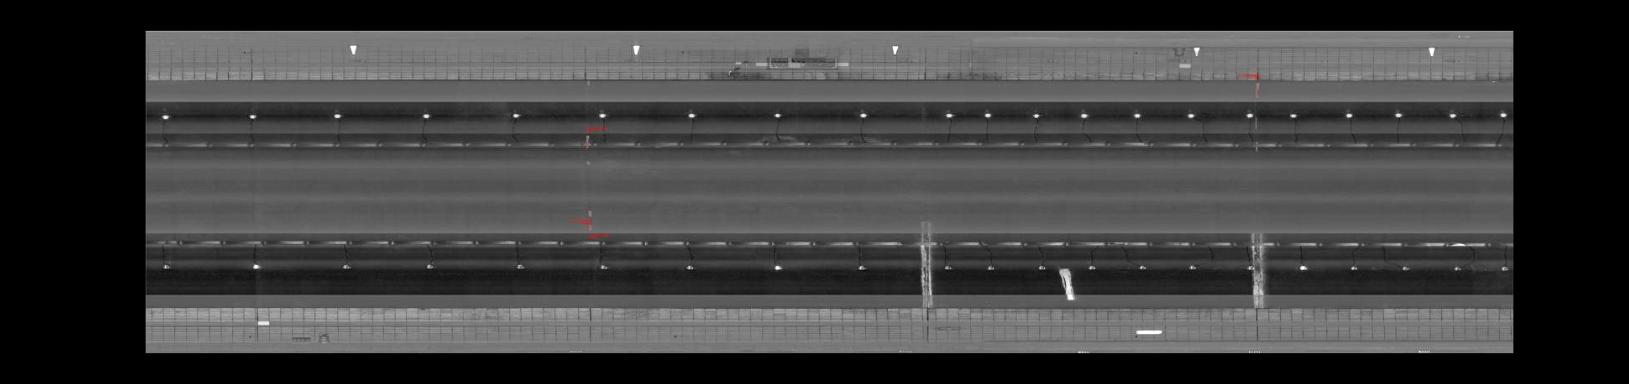light: (851, 109, 873, 121), (767, 260, 787, 273), (770, 108, 787, 121), (337, 260, 355, 273), (593, 109, 612, 121), (417, 110, 434, 122), (683, 109, 700, 121), (680, 260, 698, 273), (511, 260, 530, 272), (1133, 260, 1150, 273), (508, 109, 524, 121), (158, 260, 175, 272), (1182, 109, 1199, 120), (421, 260, 438, 271), (852, 263, 870, 273), (1496, 260, 1508, 275), (1444, 108, 1459, 120), (248, 260, 264, 272), (1296, 260, 1311, 272), (1341, 109, 1357, 120), (1075, 109, 1091, 120), (157, 112, 173, 122), (329, 111, 346, 121), (1389, 109, 1406, 119), (1451, 260, 1465, 273), (1029, 109, 1043, 120), (242, 112, 260, 121), (595, 263, 611, 273), (982, 263, 997, 273), (980, 110, 995, 120), (1084, 263, 1100, 272), (1036, 262, 1049, 273), (1495, 109, 1508, 120), (940, 263, 955, 273), (1347, 262, 1362, 272), (1241, 108, 1256, 118), (941, 109, 957, 118), (1185, 263, 1199, 273), (1129, 110, 1143, 120), (1399, 263, 1412, 273), (1287, 110, 1300, 120), (1243, 263, 1255, 272)
